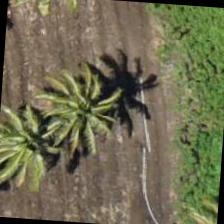Kelapa_Sawit: (30, 58, 126, 154), (0, 94, 70, 190)
